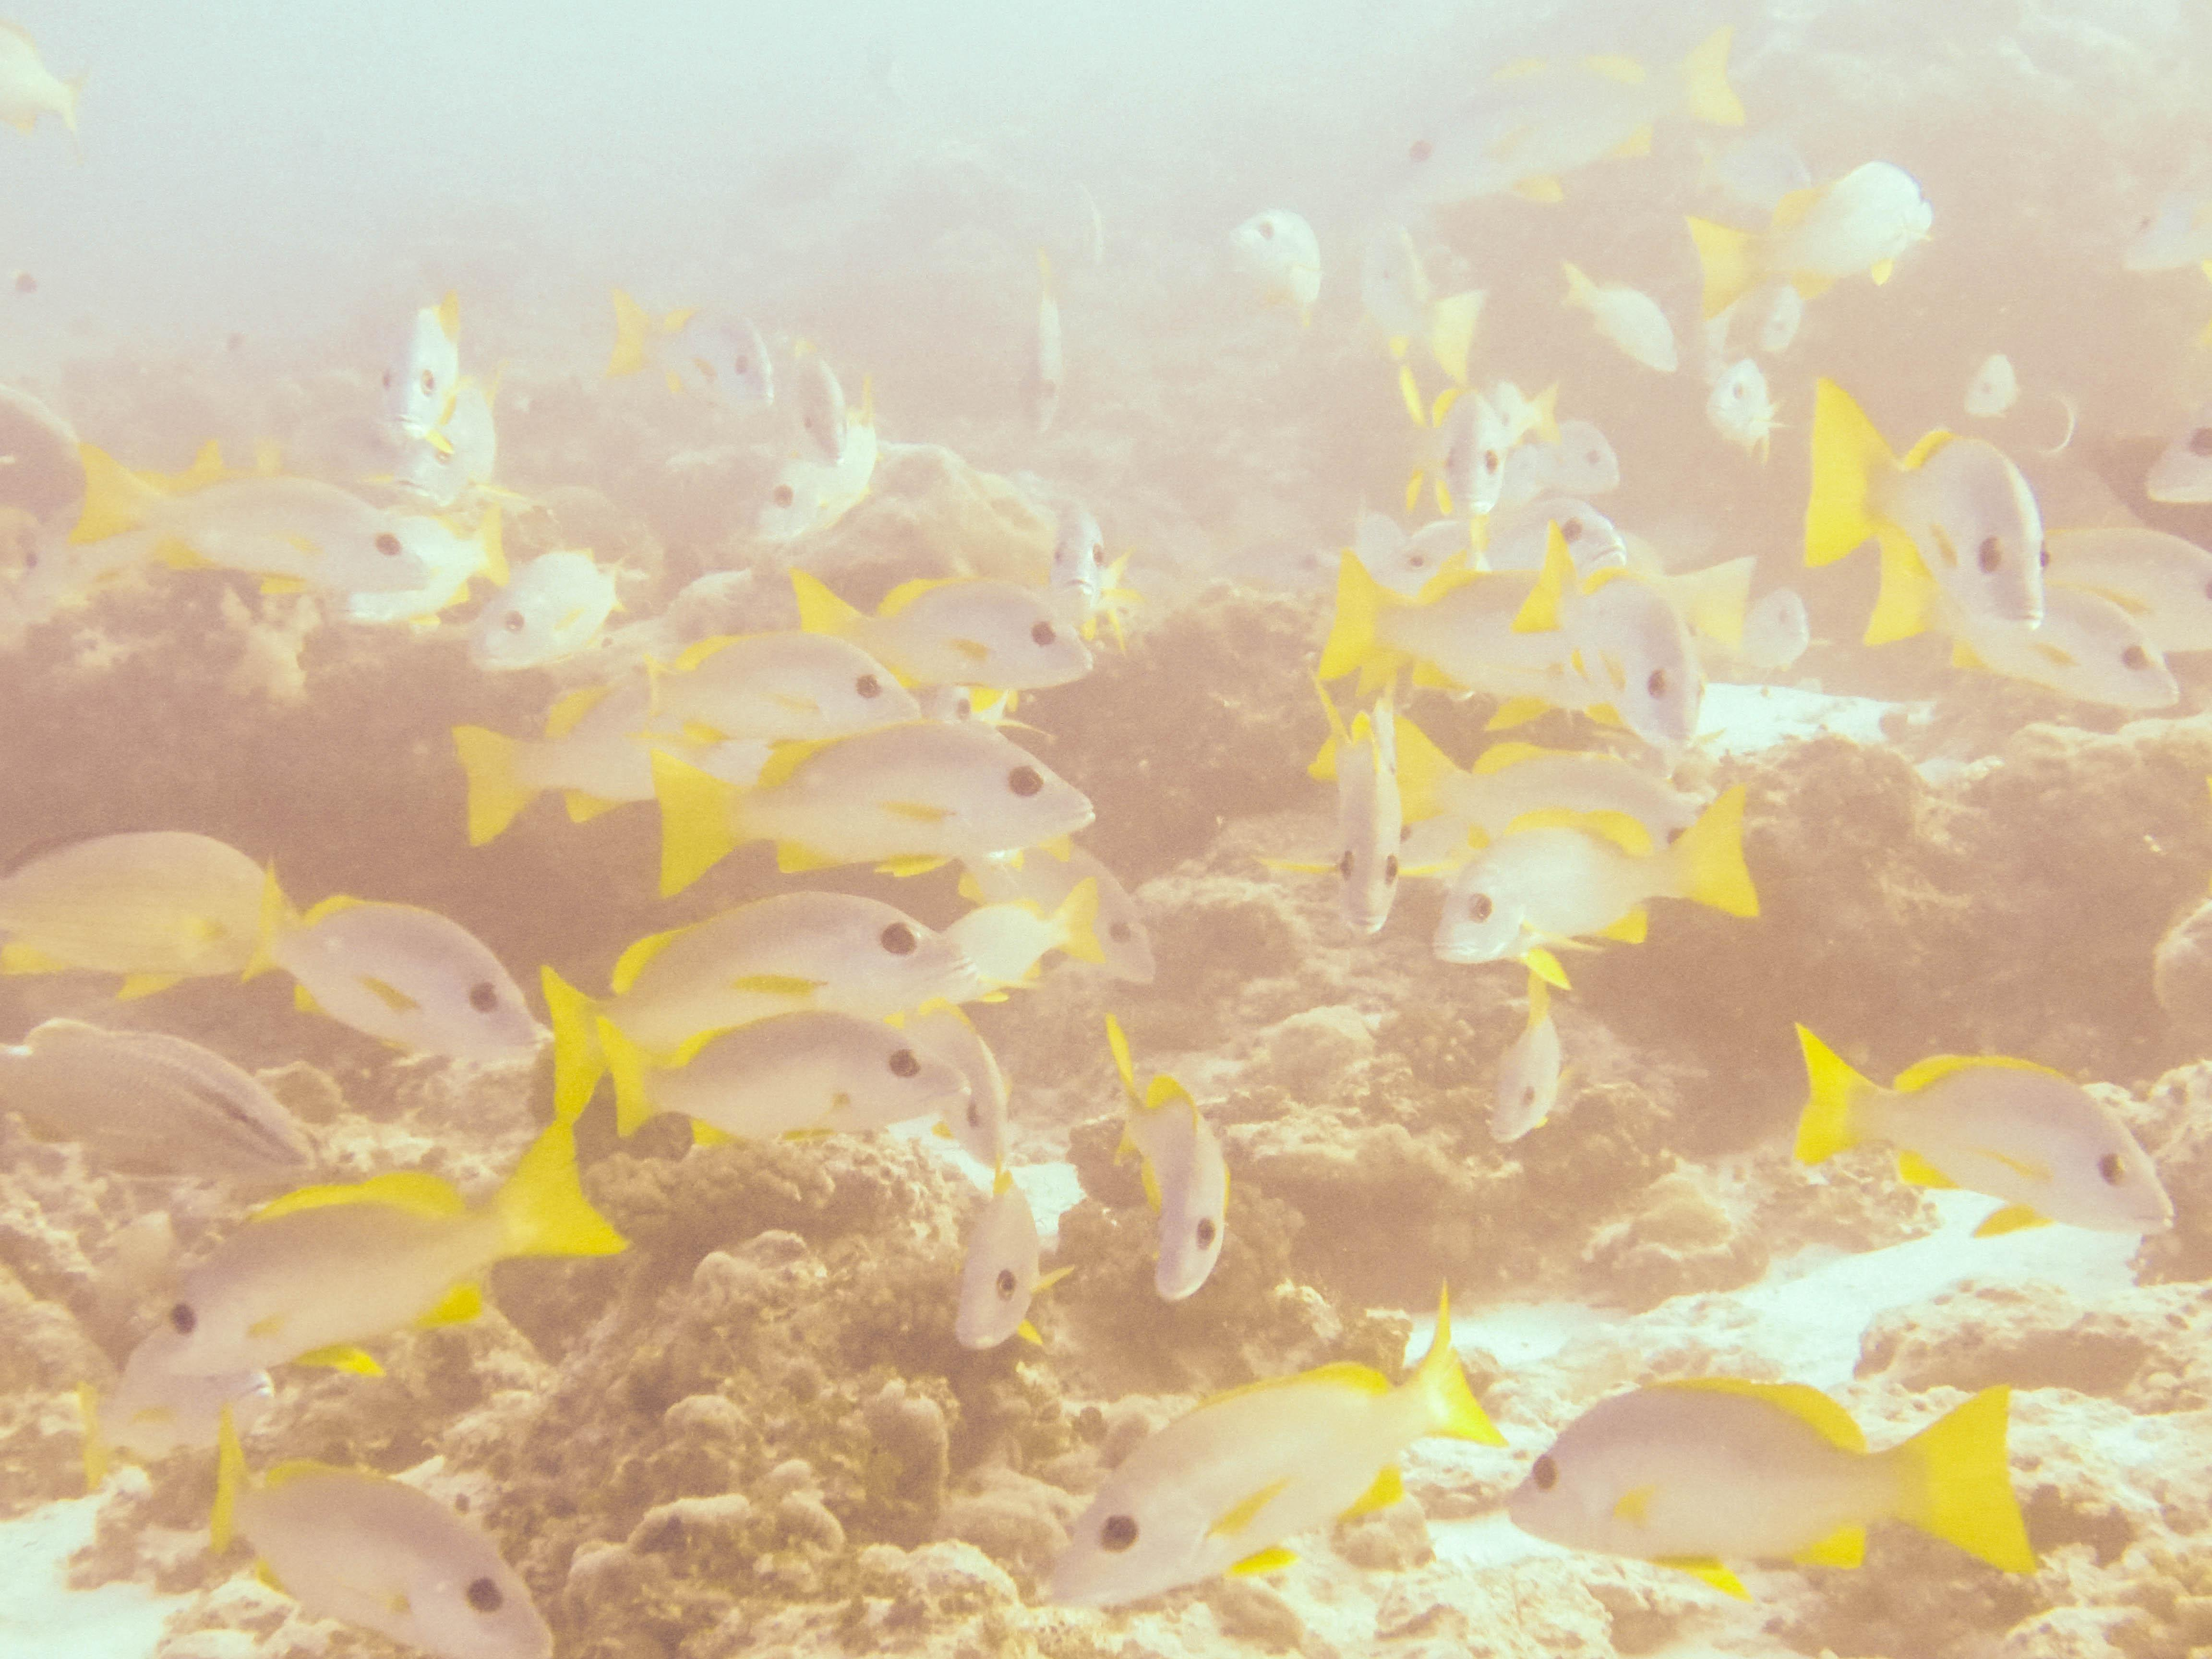Lutjanus monostigma: (1021, 1258, 1514, 1619), (139, 1087, 592, 1396), (1503, 1356, 2040, 1589), (1784, 995, 2167, 1267), (644, 694, 1120, 899), (181, 1420, 580, 1659), (1784, 355, 2062, 660)
